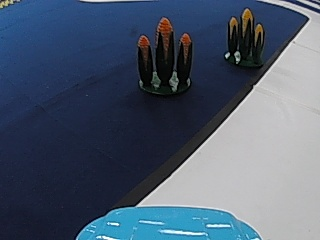corn: (133, 17, 195, 96), (222, 4, 267, 67)
